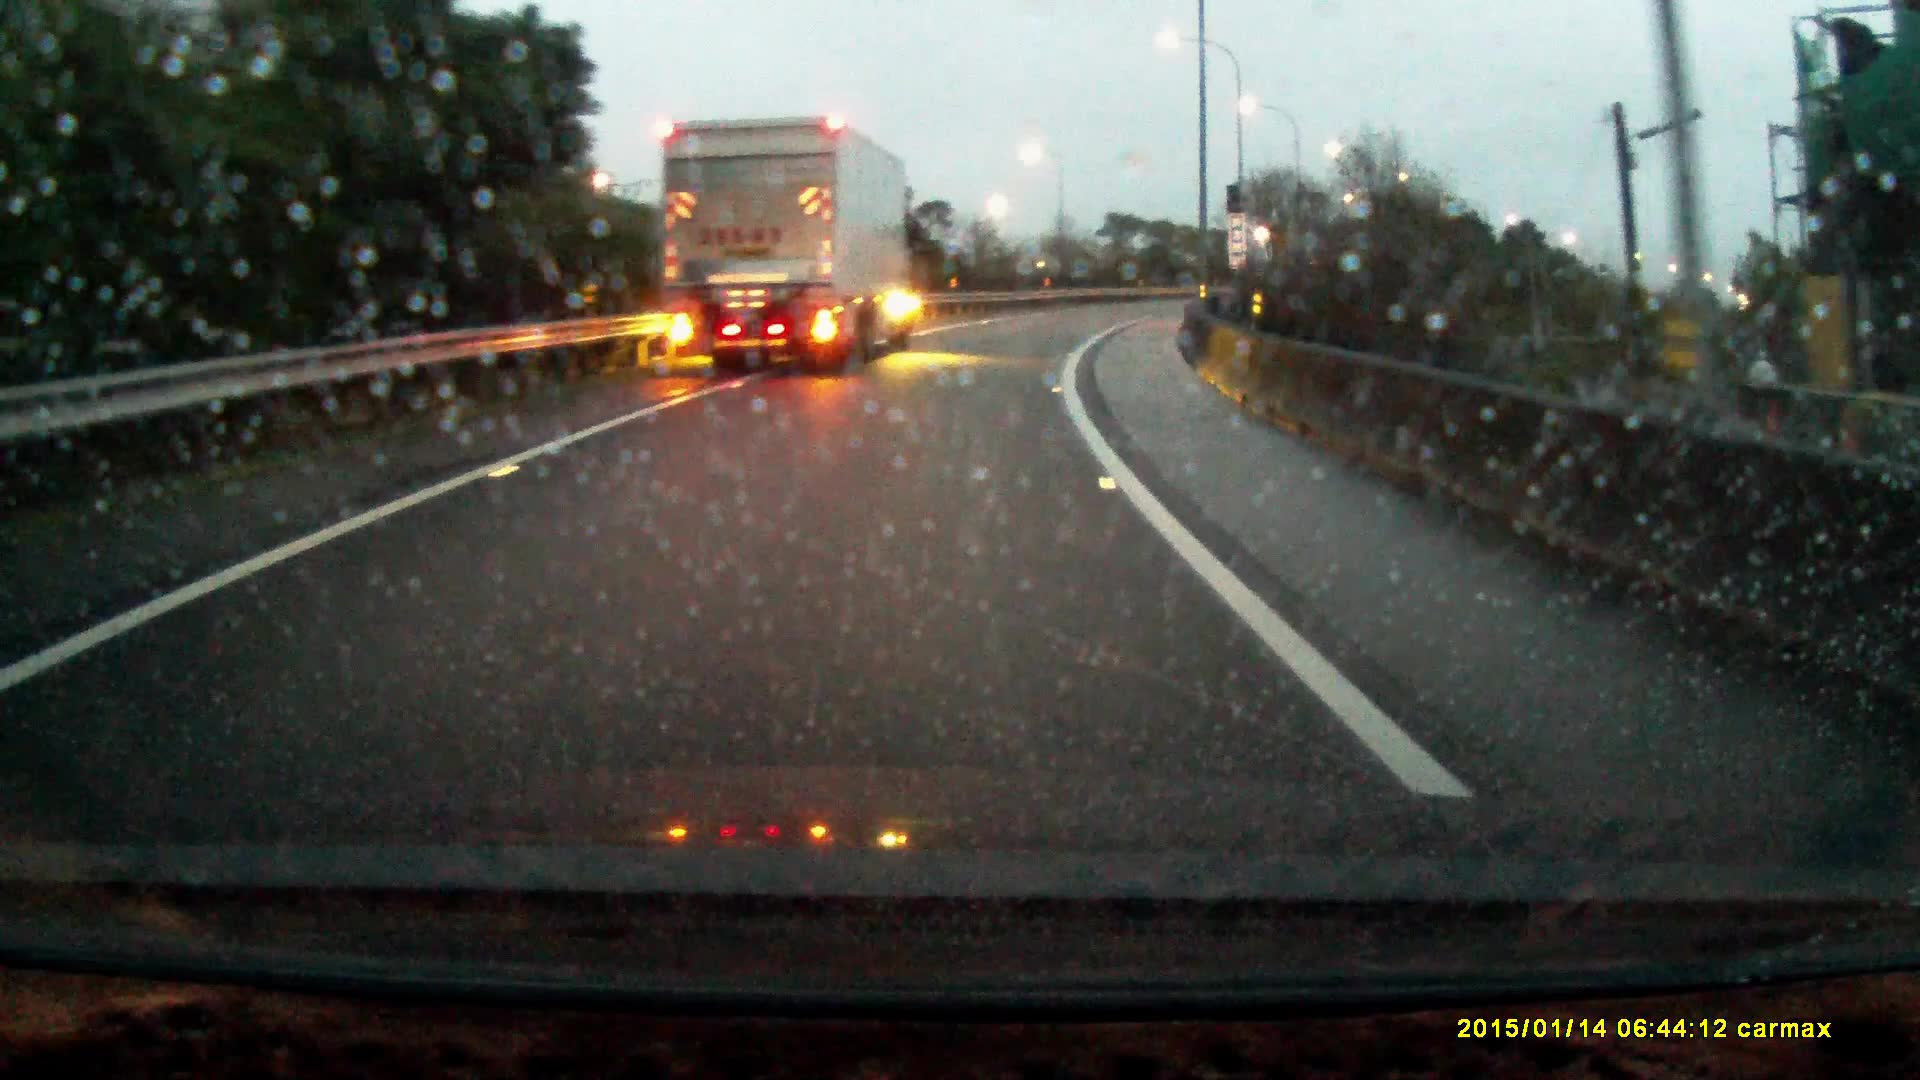vehicle: (655, 113, 920, 377)
